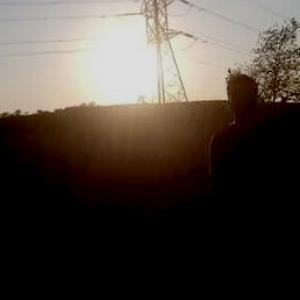follow: (204, 68, 300, 299)
